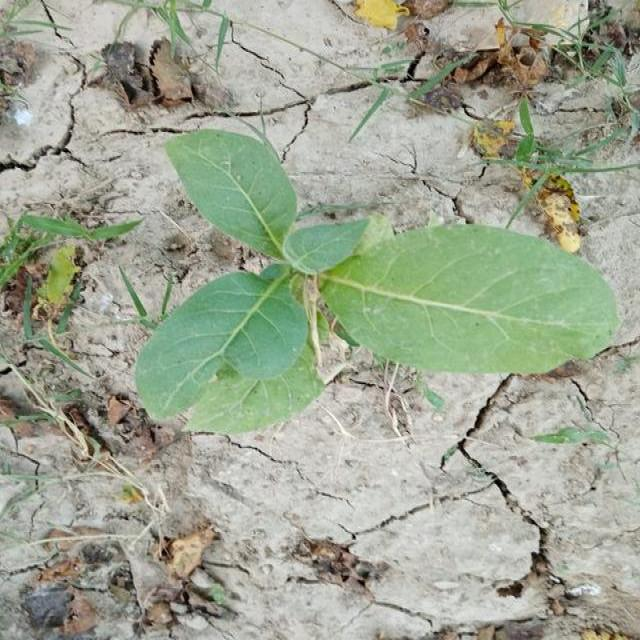crop: (139, 131, 619, 432)
